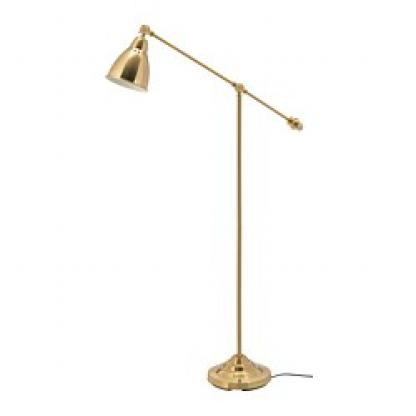Lamp: (102, 23, 304, 398)
